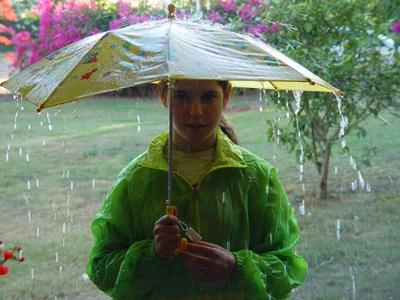person: (88, 78, 307, 300)
